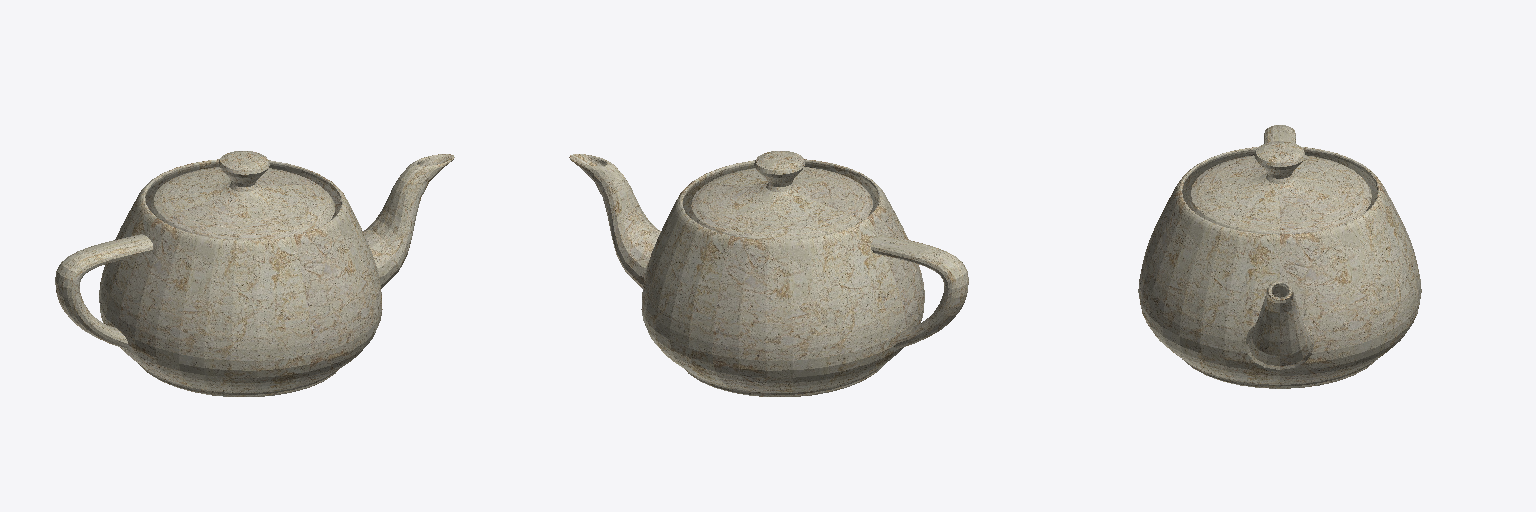
3 renders of one model, left to right at view 1: azimuth 30°, elevation 25°; view 2: azimuth 150°, elevation 25°; view 3: azimuth 270°, elevation 25°, orthographic.
Visible parts, largest first — view 1: Teapot001; view 2: Teapot001; view 3: Teapot001.
Boxes of the visible parts, x1=… form: Teapot001: x1=55, y1=151, x2=454, y2=396; Teapot001: x1=569, y1=151, x2=968, y2=396; Teapot001: x1=1138, y1=125, x2=1421, y2=388.
Bounding box in the file's own units: 90.75 × 44.44 × 56.29.
1 materials, 1 textured.